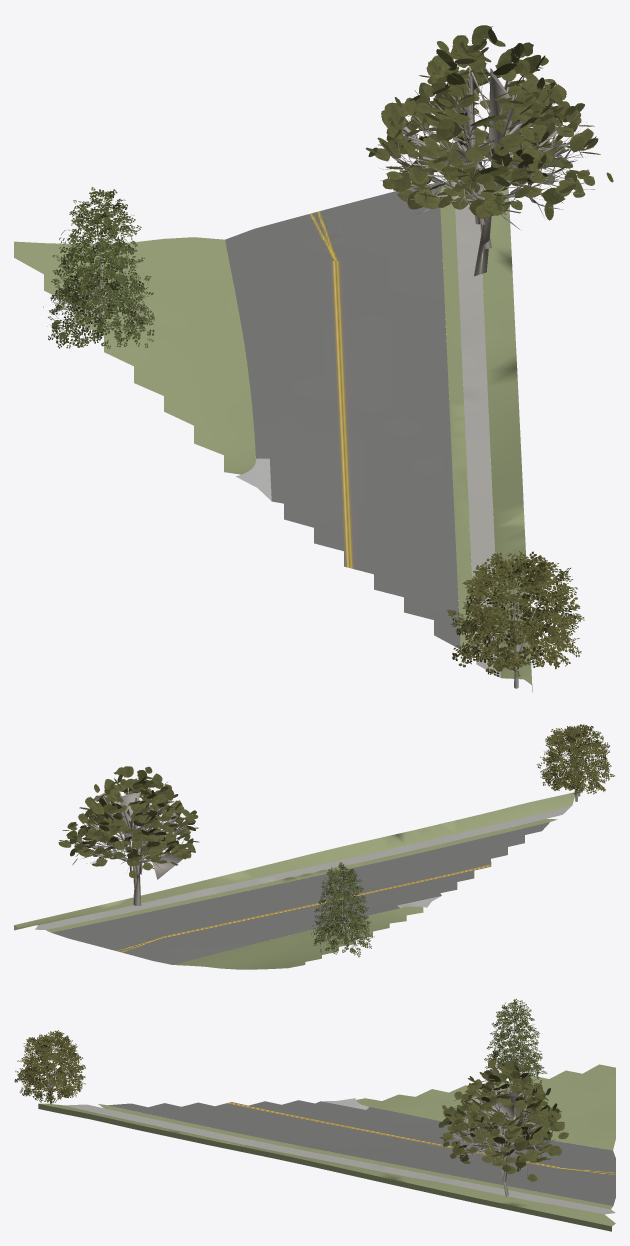
3 renders of one model, top to bottom at view 1: azimuth 30°, elevation 25°; view 2: azimuth 150°, elevation 25°; view 3: azimuth 270°, elevation 25°, orthographic. The views are drawn at different scales.
Parts seen in each view (by area): view 1: SW_ground_normal_asphalt_-1_-4_UNVERIFIED, SW_ground_normal_lawn_-1_-4, SW_N_trees_Tree_060_UNVERIFIEDspecies, SW_N_trees_Tree_109_UNVERIFIEDspecies, SW_N_trees_Tree_104_UNVERIFIEDspecies, SW_ground_normal_concrete_-1_-4_UNVERIFIED; view 2: SW_ground_normal_asphalt_-1_-4_UNVERIFIED, SW_ground_normal_lawn_-1_-4, SW_N_trees_Tree_060_UNVERIFIEDspecies, SW_N_trees_Tree_109_UNVERIFIEDspecies, SW_ground_normal_concrete_-1_-4_UNVERIFIED, SW_N_trees_Tree_104_UNVERIFIEDspecies; view 3: SW_ground_normal_asphalt_-1_-4_UNVERIFIED, SW_ground_normal_lawn_-1_-4, SW_N_trees_Tree_060_UNVERIFIEDspecies, SW_ground_normal_concrete_-1_-4_UNVERIFIED, SW_N_trees_Tree_109_UNVERIFIEDspecies, SW_N_trees_Tree_104_UNVERIFIEDspecies.
Boxes of the visible parts, left/top/right/bottom form: SW_ground_normal_asphalt_-1_-4_UNVERIFIED: left=225, top=183, right=460, bottom=648; SW_ground_normal_lawn_-1_-4: left=14, top=181, right=532, bottom=692; SW_N_trees_Tree_060_UNVERIFIEDspecies: left=365, top=25, right=613, bottom=276; SW_N_trees_Tree_109_UNVERIFIEDspecies: left=446, top=551, right=584, bottom=688; SW_N_trees_Tree_104_UNVERIFIEDspecies: left=43, top=187, right=154, bottom=348; SW_ground_normal_concrete_-1_-4_UNVERIFIED: left=454, top=180, right=500, bottom=677; SW_ground_normal_asphalt_-1_-4_UNVERIFIED: left=51, top=822, right=549, bottom=964; SW_ground_normal_lawn_-1_-4: left=14, top=791, right=580, bottom=969; SW_N_trees_Tree_060_UNVERIFIEDspecies: left=58, top=766, right=199, bottom=905; SW_N_trees_Tree_109_UNVERIFIEDspecies: left=536, top=724, right=614, bottom=801; SW_ground_normal_concrete_-1_-4_UNVERIFIED: left=35, top=805, right=571, bottom=929; SW_N_trees_Tree_104_UNVERIFIEDspecies: left=311, top=862, right=374, bottom=957; SW_ground_normal_asphalt_-1_-4_UNVERIFIED: left=109, top=1098, right=615, bottom=1205; SW_ground_normal_lawn_-1_-4: left=38, top=1064, right=615, bottom=1231; SW_N_trees_Tree_060_UNVERIFIEDspecies: left=438, top=1059, right=568, bottom=1196; SW_ground_normal_concrete_-1_-4_UNVERIFIED: left=64, top=1104, right=615, bottom=1214; SW_N_trees_Tree_109_UNVERIFIEDspecies: left=14, top=1030, right=85, bottom=1103; SW_N_trees_Tree_104_UNVERIFIEDspecies: left=484, top=998, right=547, bottom=1089.
Size of the model in its own units: 37.1 by 16.8 by 62.39.
Materials: 10 (4 with a texture image).
